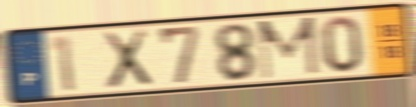0: (318, 13, 365, 76)
1: (49, 32, 78, 94)
7: (154, 24, 204, 86)
8: (210, 21, 257, 83)
M: (255, 14, 322, 82)
X: (100, 27, 155, 92)
